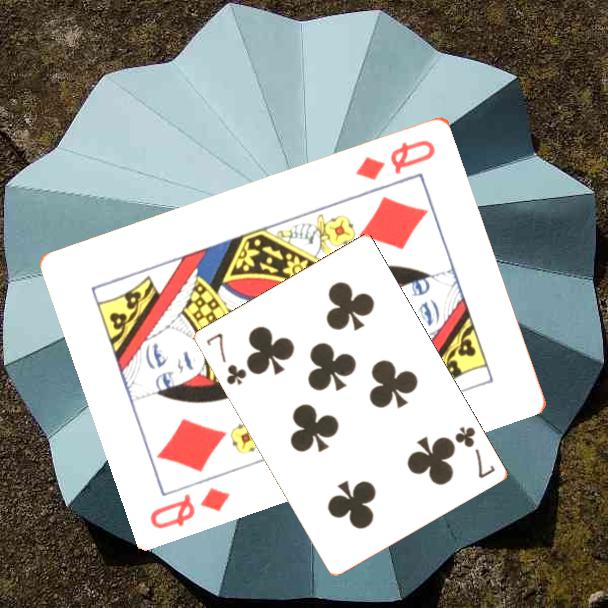c07: (202, 329, 249, 388), (451, 423, 498, 481)
d12: (146, 483, 233, 532), (352, 136, 439, 183)
